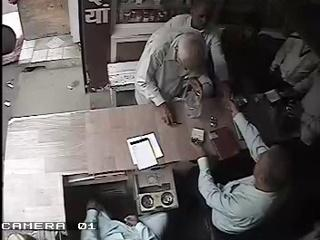Normal: (190, 99, 294, 240), (133, 0, 230, 125)
